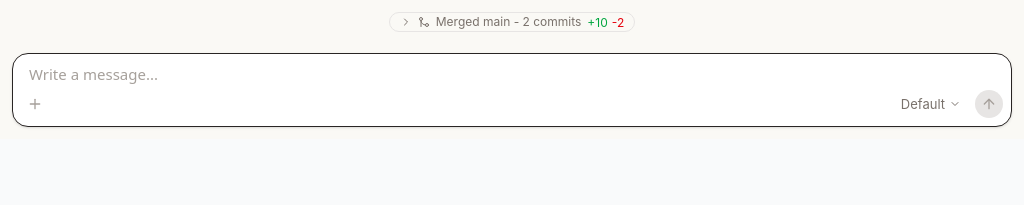
Test case: a message sent after a commit lands under it › connects and aligns merged commit rows with commit-card tooltips
The image size is (1024, 205).
expect the text box is enabled: met, box 13,54 -> 1011,88
Click the button "Merged main - 2 commits +10 -2": (512, 22) 389,12 -> 635,32
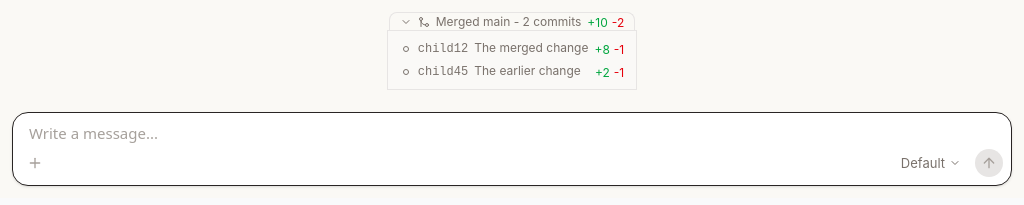
expect the button "Merged main - 2 commits +10 -2" has class "z-10" "rounded-b-none" "border-b-0": met, box 389,12 -> 635,31
Hover over the element showing "The merged change +8 -1": (512, 48) 396,37 -> 628,60
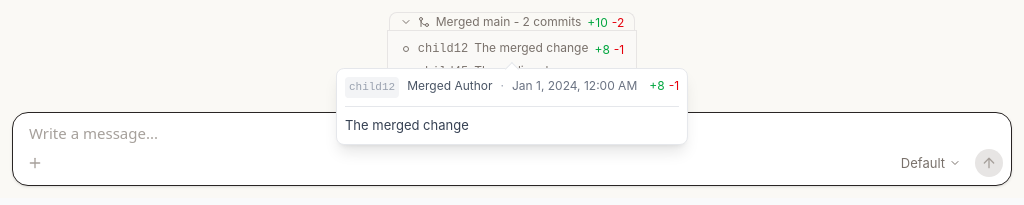
expect the text "Merged Author" is shown: met, box 407,77 -> 492,95
